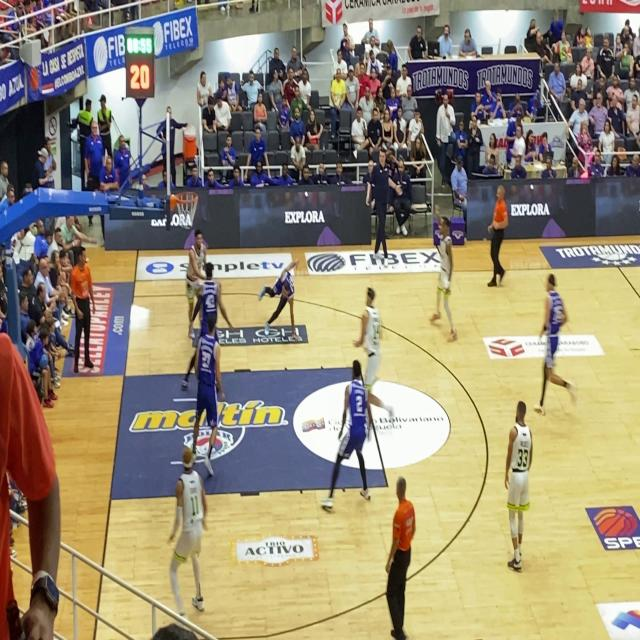referee: (376, 473, 428, 640), (68, 245, 100, 378), (479, 169, 512, 296)
team1: (162, 444, 214, 621), (501, 397, 536, 575), (356, 279, 394, 436), (430, 210, 461, 358), (181, 224, 206, 309)
team2: (323, 350, 372, 516), (534, 267, 580, 420), (196, 318, 229, 478), (256, 258, 306, 350), (194, 262, 226, 315)
ubasket: (173, 185, 199, 228)
